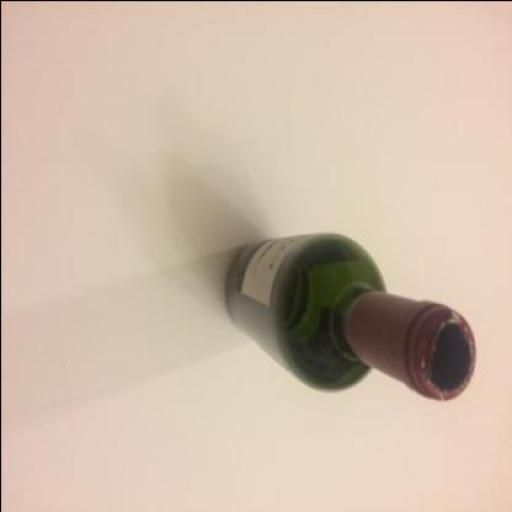glass: (225, 230, 474, 400)
